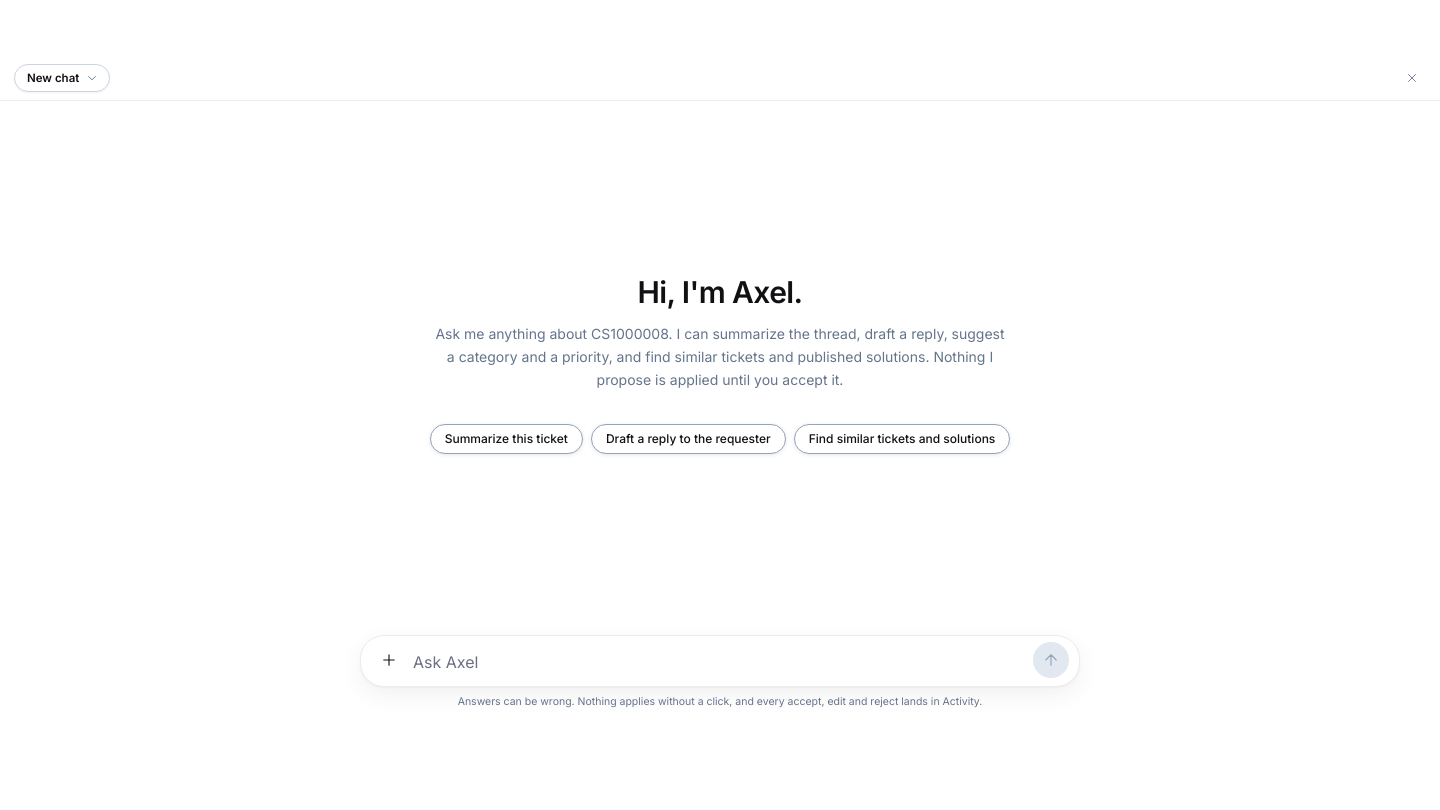
Test case: AxelChat › streams the answer into the transcript and keeps what was asked
Type "Why is this slow?" into the text box labelled "Ask Axel" at (720,662), box [413,644,1027,680]
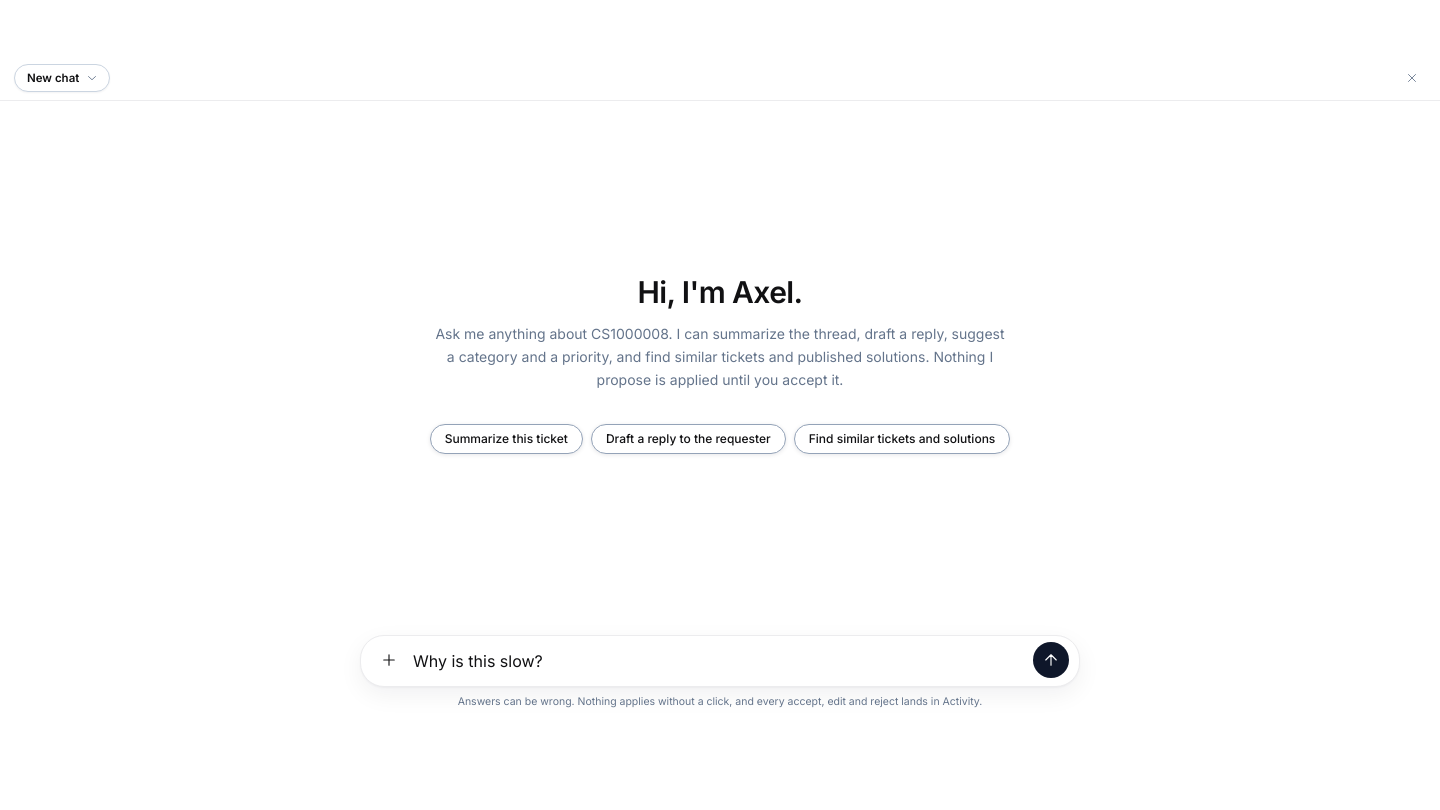
Click the button named "Send" at (1051,660), box [1033,642,1069,678]
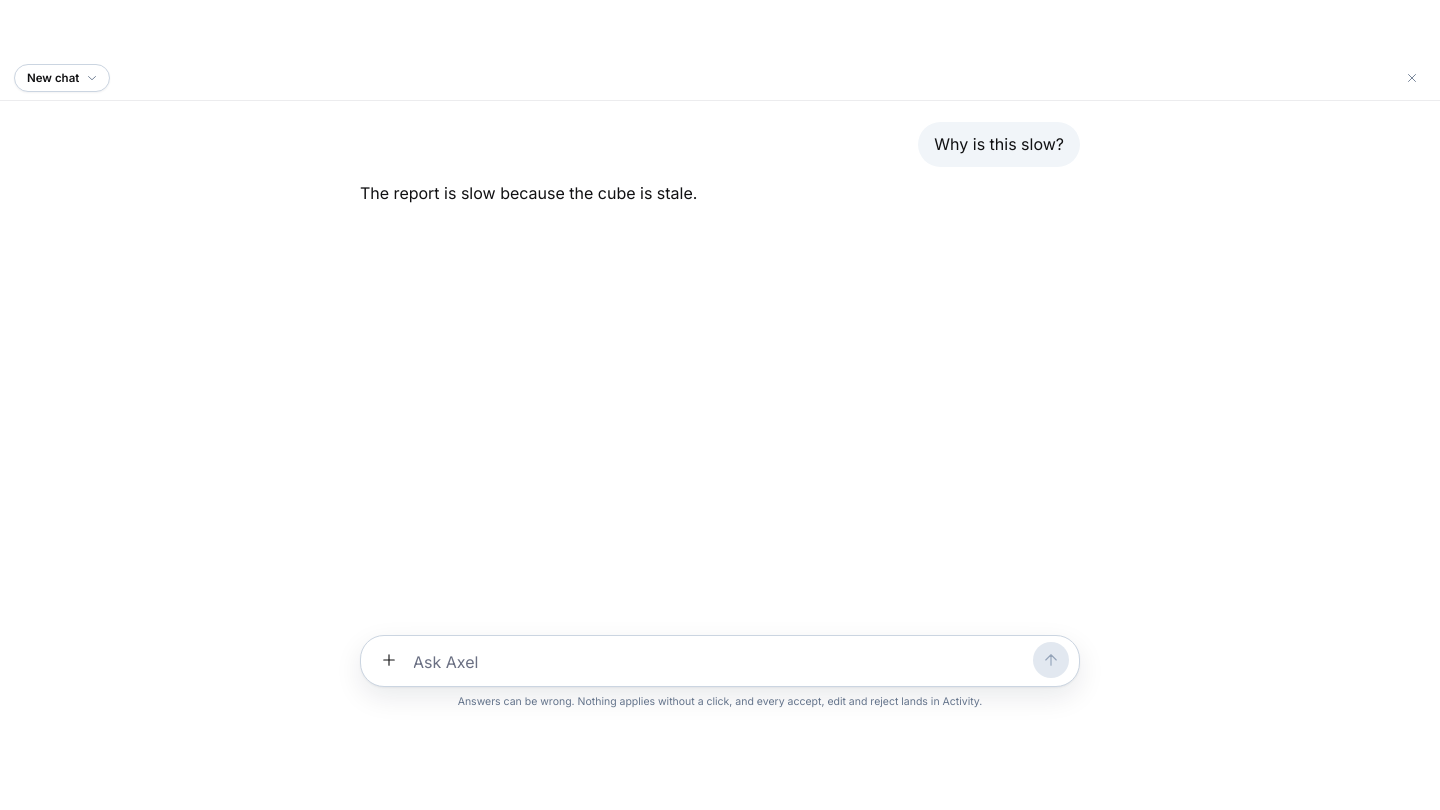
Now the text "The report is slow because the cube is stale." is shown, box [360,183,697,203]
Now the text "Why is this slow?" is shown, box [918,122,1080,167]
Now the heading "Hi, I'm Axel." is gone
